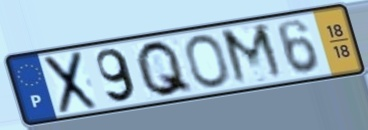6: (276, 17, 321, 77)
9: (95, 46, 138, 104)
M: (217, 20, 289, 88)
O: (183, 32, 232, 89)
Q: (134, 38, 197, 99)
X: (42, 48, 100, 117)
